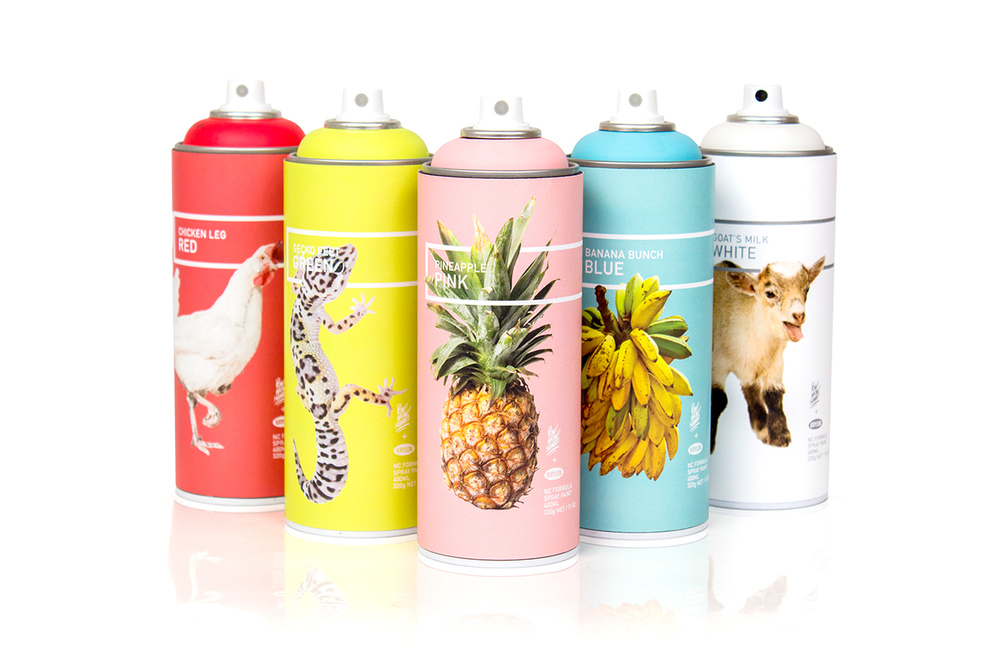Aerosol_cans: (412, 90, 590, 575), (280, 82, 439, 543), (567, 80, 721, 551), (163, 72, 316, 518), (695, 77, 843, 518)
